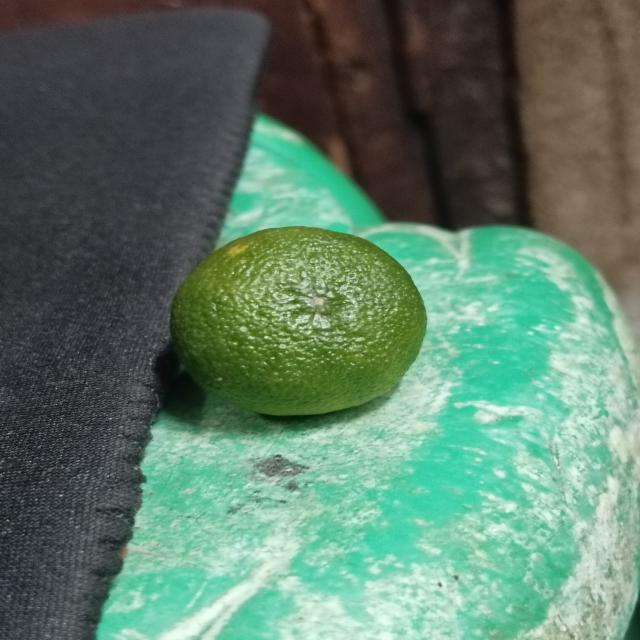heathy: (166, 226, 432, 420)
